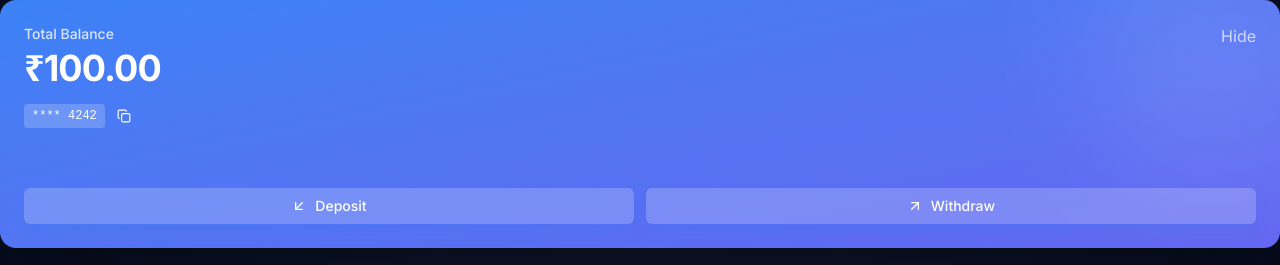
WalletCard › toggles visibility
The image size is (1280, 265).
Click the button "Hide".
click(1239, 36)  # box [1221,24,1256,48]
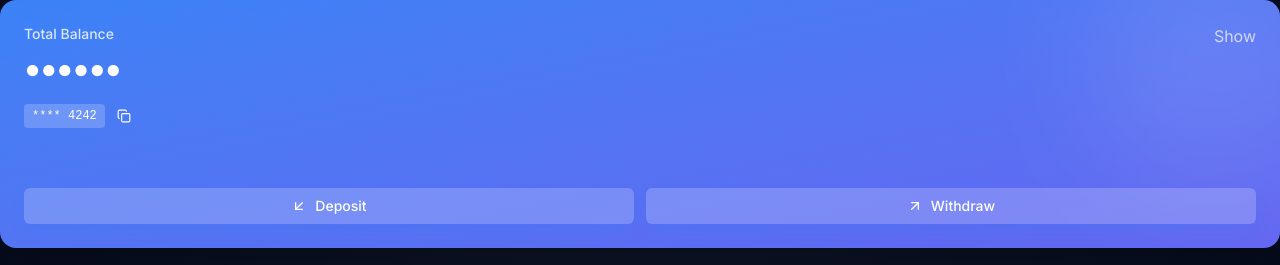
Expected: the button "Show" is shown, [1214,24,1256,48]
Expected: the heading "••••••" is shown, [24,48,121,88]
